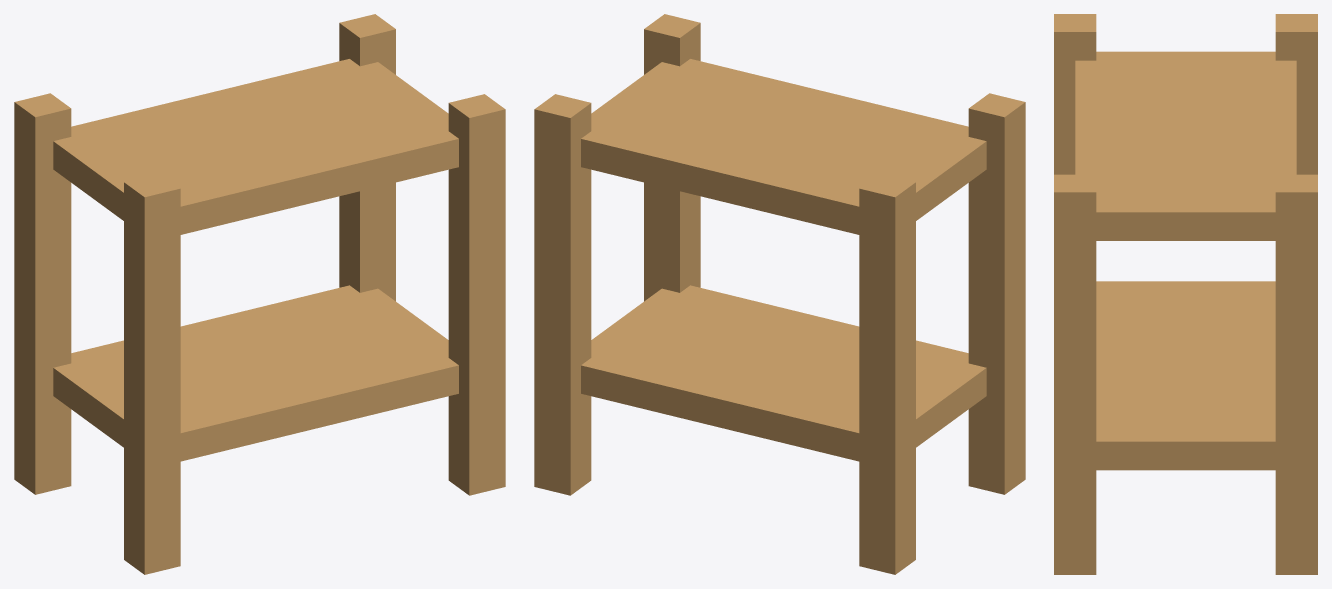
Rendered from bookcaseOpenLow.glb.
3 renders of one model, left to right at view 1: azimuth 30°, elevation 25°; view 2: azimuth 150°, elevation 25°; view 3: azimuth 270°, elevation 25°, orthographic.
Size of the model in its own units: 4 by 4 by 2.5.
